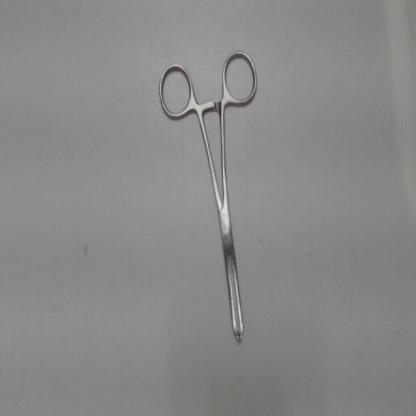Allis Tissue Forceps: (152, 40, 262, 354)
